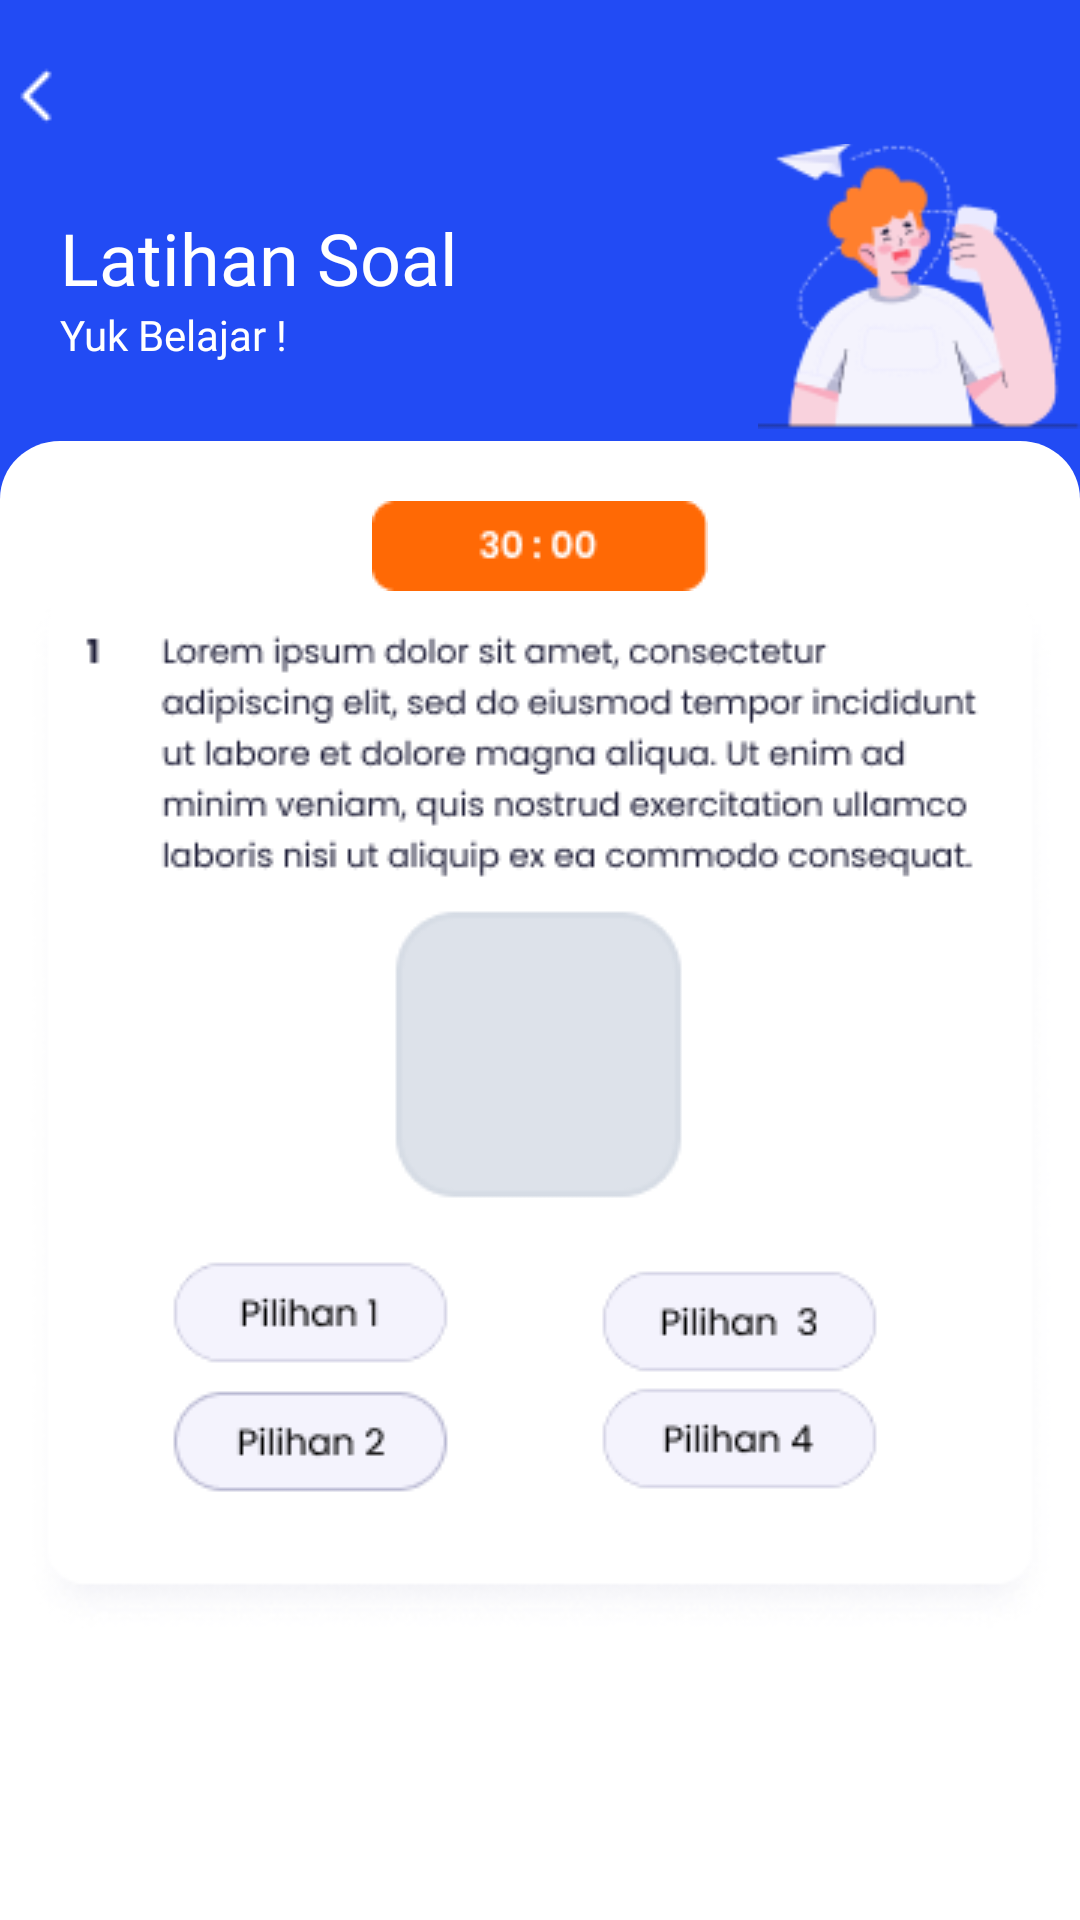

Named icons in this screenshot (1080 × 1920) and their bounding boxes, (x1, y1, x2, y2):
leftsiku: (20, 69, 52, 122)
